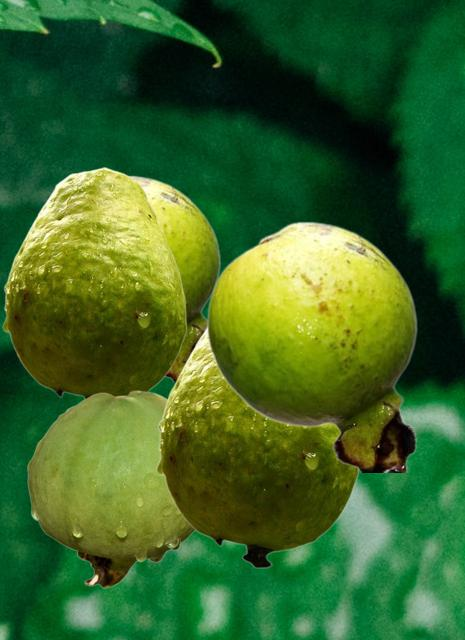guava: (206, 221, 417, 471), (156, 328, 358, 568), (2, 167, 186, 398), (27, 390, 194, 587), (130, 175, 220, 381)
